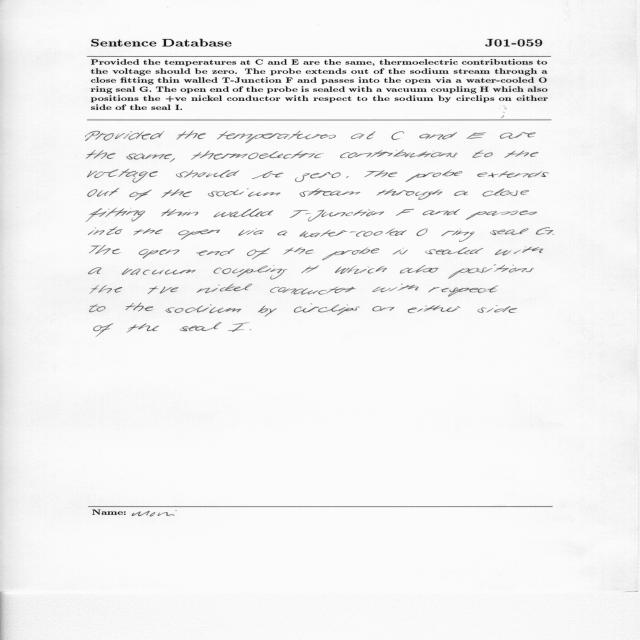word: (216, 131, 336, 143), (191, 150, 324, 160), (448, 265, 534, 279), (290, 209, 384, 221), (214, 265, 288, 280), (88, 169, 158, 183), (299, 228, 407, 237), (340, 150, 457, 158), (429, 285, 499, 297), (87, 208, 146, 222), (294, 303, 360, 315), (86, 131, 165, 141), (322, 248, 379, 261), (377, 189, 443, 200), (466, 210, 537, 220), (270, 287, 356, 295), (406, 170, 463, 182), (208, 188, 280, 197), (166, 305, 242, 313), (300, 188, 361, 197), (214, 209, 274, 218), (122, 268, 196, 275), (176, 170, 239, 178), (477, 171, 549, 178), (197, 284, 253, 293), (425, 247, 483, 255), (178, 229, 220, 240), (295, 172, 341, 182), (441, 229, 475, 242), (495, 247, 543, 256), (335, 266, 387, 274), (408, 305, 460, 313), (483, 188, 529, 197), (139, 249, 180, 259), (373, 284, 419, 292), (400, 265, 439, 274), (180, 323, 222, 331), (127, 323, 160, 333), (477, 305, 517, 313), (419, 132, 457, 140), (161, 209, 199, 217), (89, 246, 121, 255), (90, 285, 122, 294), (88, 227, 123, 235), (88, 188, 119, 197), (161, 189, 192, 198), (196, 249, 235, 256), (505, 150, 539, 158), (176, 131, 206, 140), (86, 150, 116, 159), (127, 154, 172, 160), (490, 228, 528, 235), (94, 323, 113, 337), (252, 171, 284, 179), (247, 248, 270, 259), (500, 132, 536, 139), (130, 190, 152, 201), (148, 286, 178, 294), (365, 171, 398, 178), (258, 305, 277, 317), (126, 303, 154, 311), (423, 209, 460, 215), (228, 322, 250, 332), (283, 248, 313, 255), (238, 228, 264, 236), (134, 229, 163, 236), (351, 132, 376, 140), (472, 150, 493, 158), (301, 266, 319, 274), (466, 132, 486, 139), (536, 227, 553, 235), (90, 304, 106, 312), (396, 209, 414, 216), (391, 131, 404, 140), (373, 306, 395, 311), (393, 248, 408, 255), (89, 267, 102, 274), (417, 228, 428, 236), (454, 191, 468, 196), (278, 231, 288, 236), (170, 158, 175, 162), (346, 176, 349, 178), (552, 234, 554, 235), (250, 330, 251, 331)
